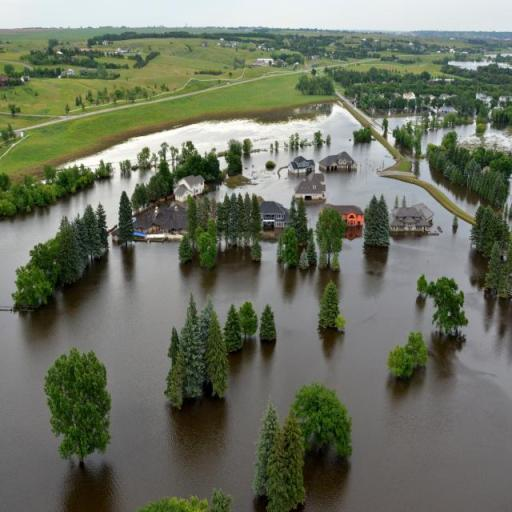flood: (0, 104, 512, 512), (422, 117, 484, 154), (388, 115, 420, 144), (485, 126, 512, 150)
house: (390, 203, 432, 239), (260, 196, 290, 236), (295, 175, 327, 207), (172, 174, 206, 204), (154, 204, 186, 233), (322, 149, 356, 176), (340, 203, 365, 239), (289, 154, 312, 179)
